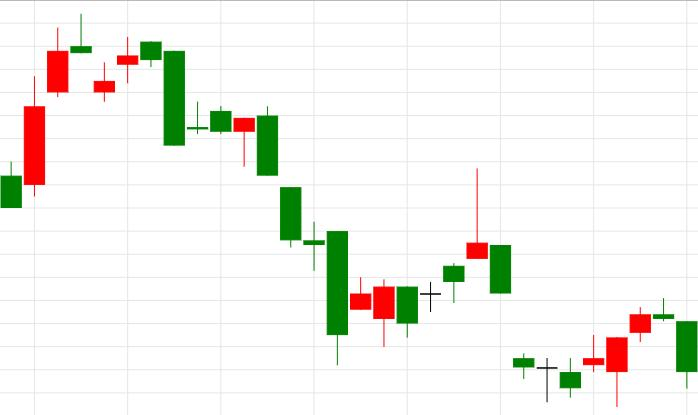shooting_star_fall: (326, 167, 488, 366)
